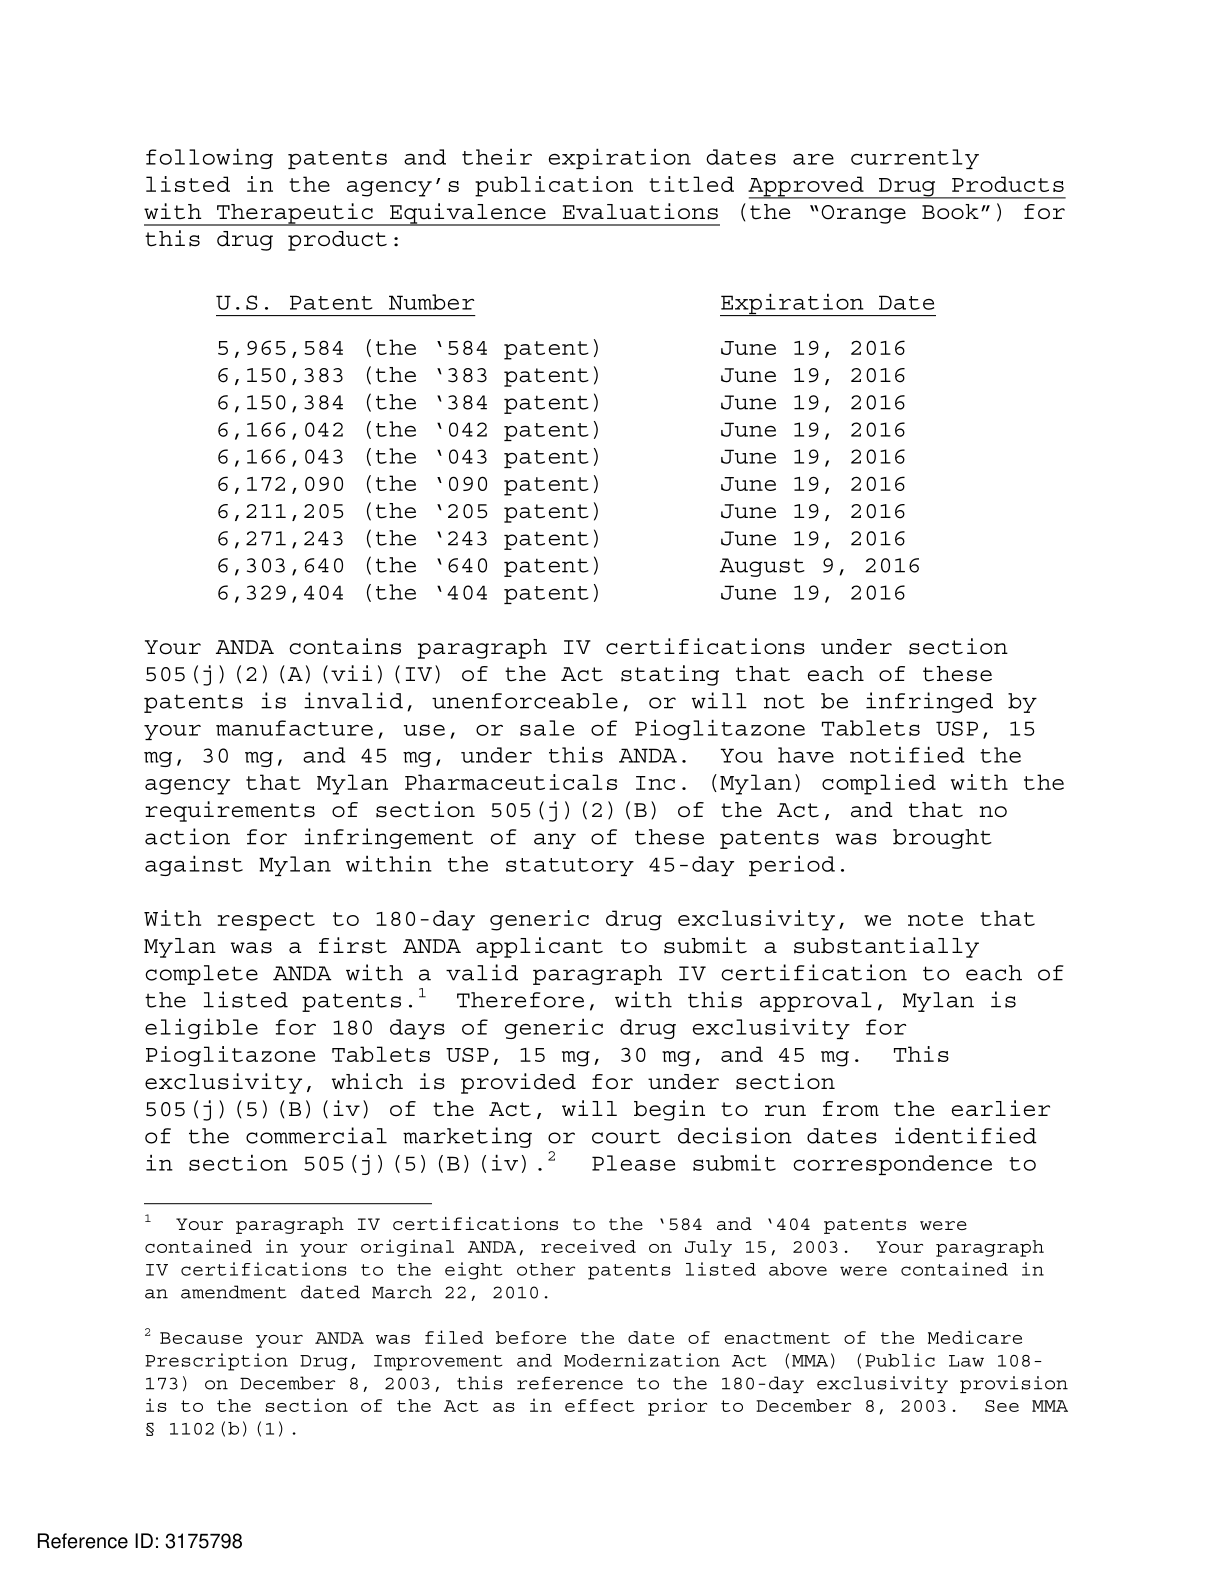nolines: (213, 291, 941, 606)
